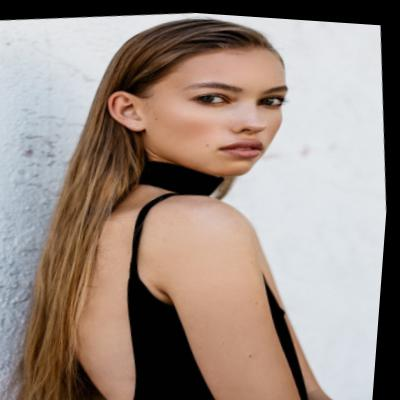netural: (138, 37, 301, 183)
